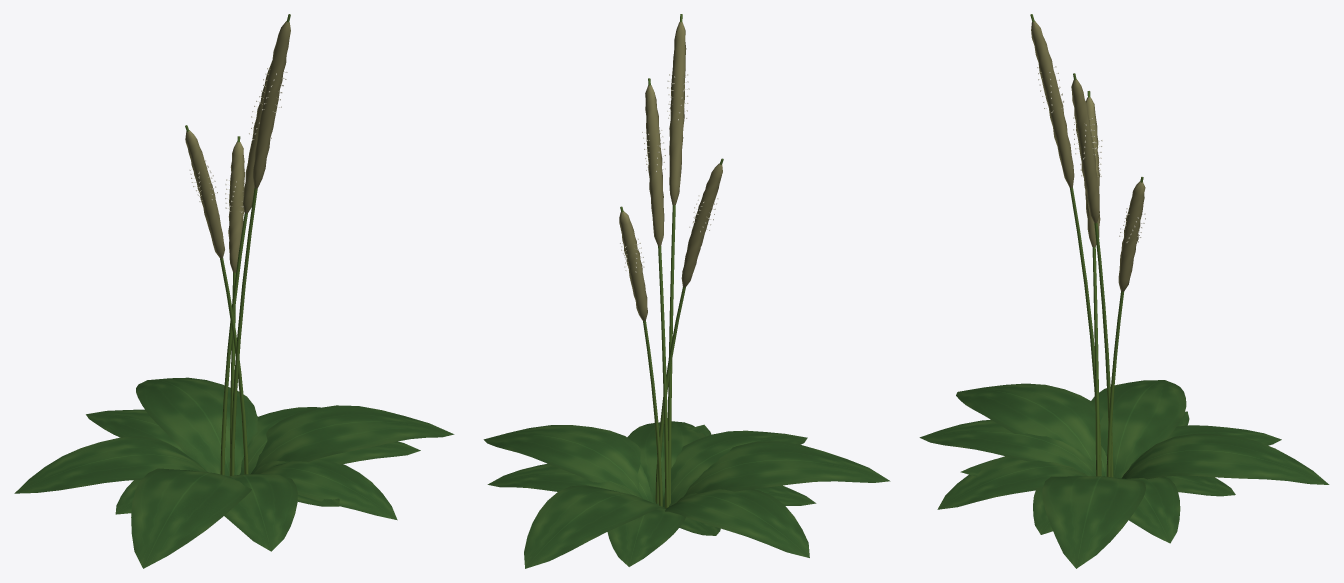
Rendered from plantain.glb.
3 views of the same model, side by side, from view 1: azimuth 30°, elevation 25°; view 2: azimuth 150°, elevation 25°; view 3: azimuth 270°, elevation 25° (orthographic). The views are drawn at different scales.
Parts seen in each view (by area): view 1: Foliage, Flowers, Stems; view 2: Foliage, Flowers, Stems; view 3: Foliage, Flowers, Stems.
Part boxes in pixels (x1,y1,x2,y2): Foliage: (14, 377, 454, 568); Flowers: (185, 21, 290, 272); Stems: (185, 14, 290, 476); Foliage: (483, 421, 890, 568); Flowers: (619, 22, 722, 320); Stems: (620, 14, 723, 508); Foliage: (919, 380, 1329, 568); Flowers: (1031, 21, 1145, 291); Stems: (1030, 14, 1143, 477).
Size of the model in its own units: 0.2442 by 0.3 by 0.2282.
Materials: 3 (1 with a texture image).
